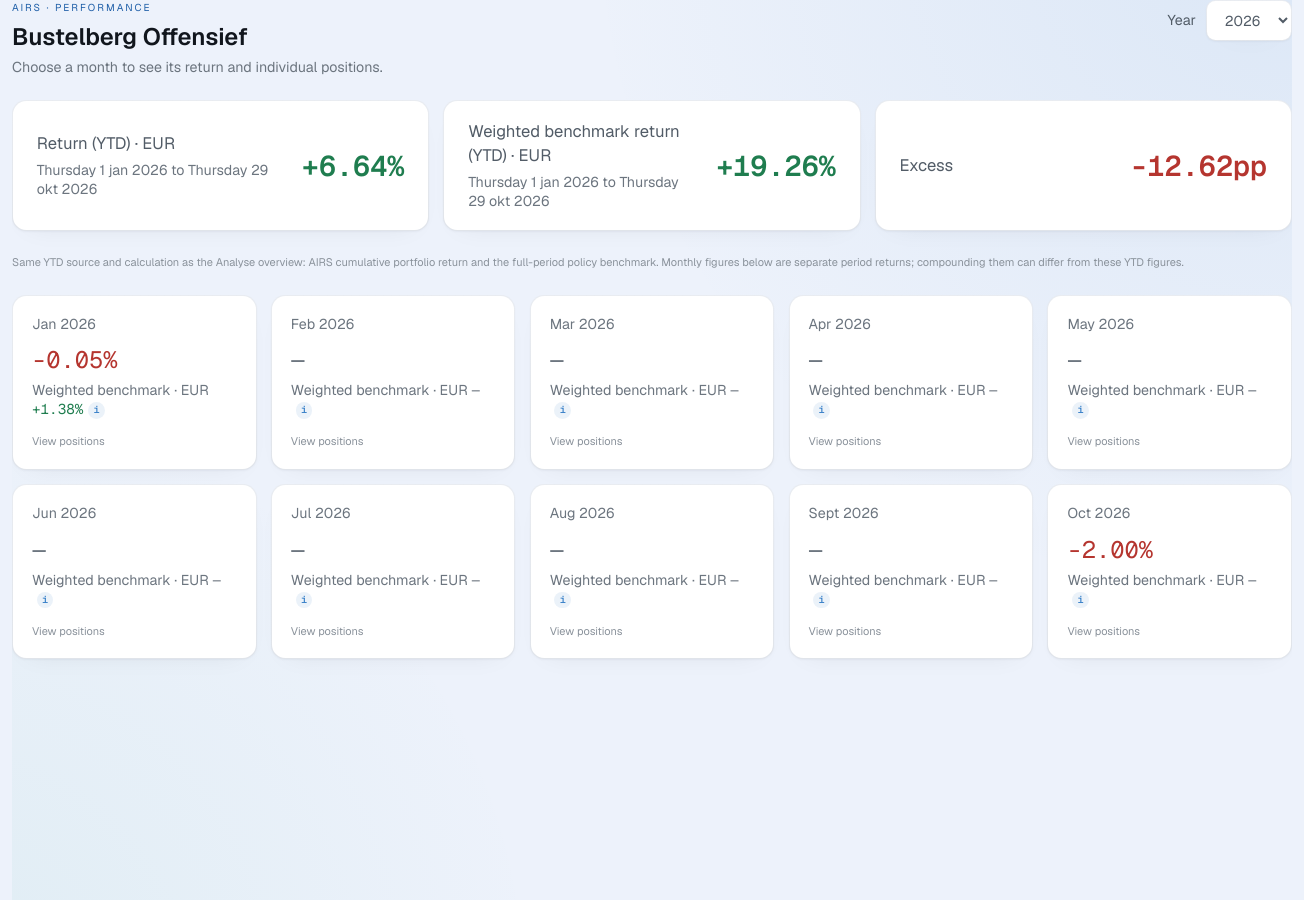
it: AIRS monthly report › keeps January monthly returns separate from a January-to-October YTD headline
This screenshot has width=1304, height=900.
expect the element named "Compounded returns" shows "+19.26%": met, box [716,147,836,184]
expect the text "+19.26%" is not shown: met
Click the button that starts with "Jan 2026" at (134, 382), box [12,295,257,470]
(page scrolled)
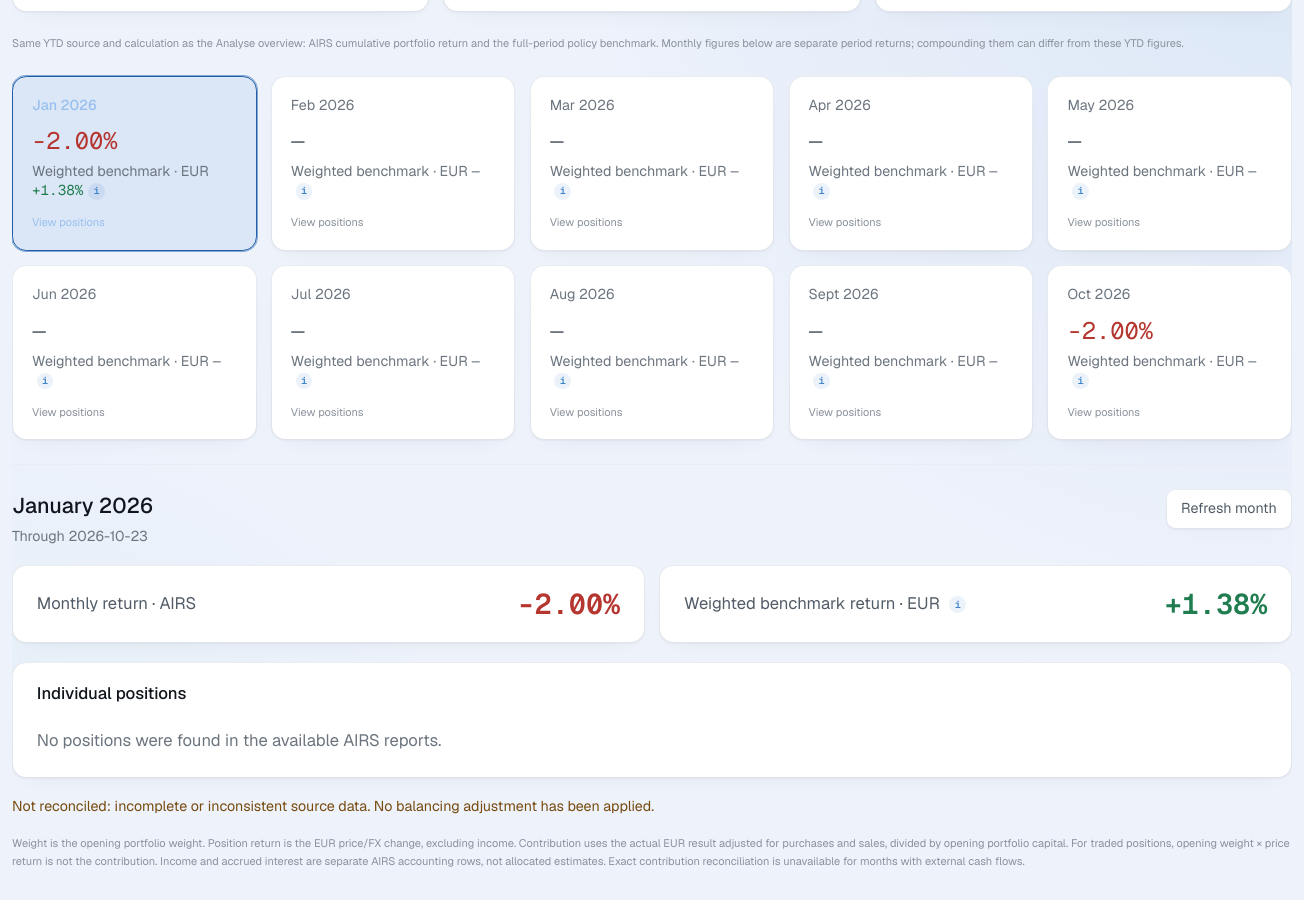
expect the element with id "monthly-report-details" does not show "+19.26%": met
expect the element with id "monthly-report-details" shows "+1.38%": met, box [1165,585,1267,622]
